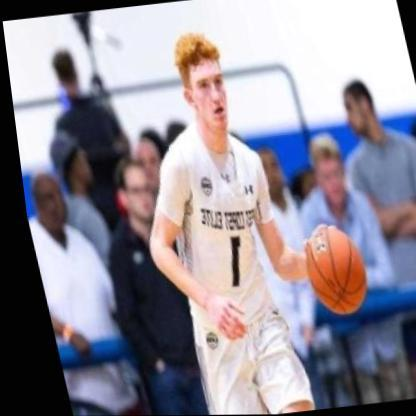basketball: (281, 223, 372, 322)
